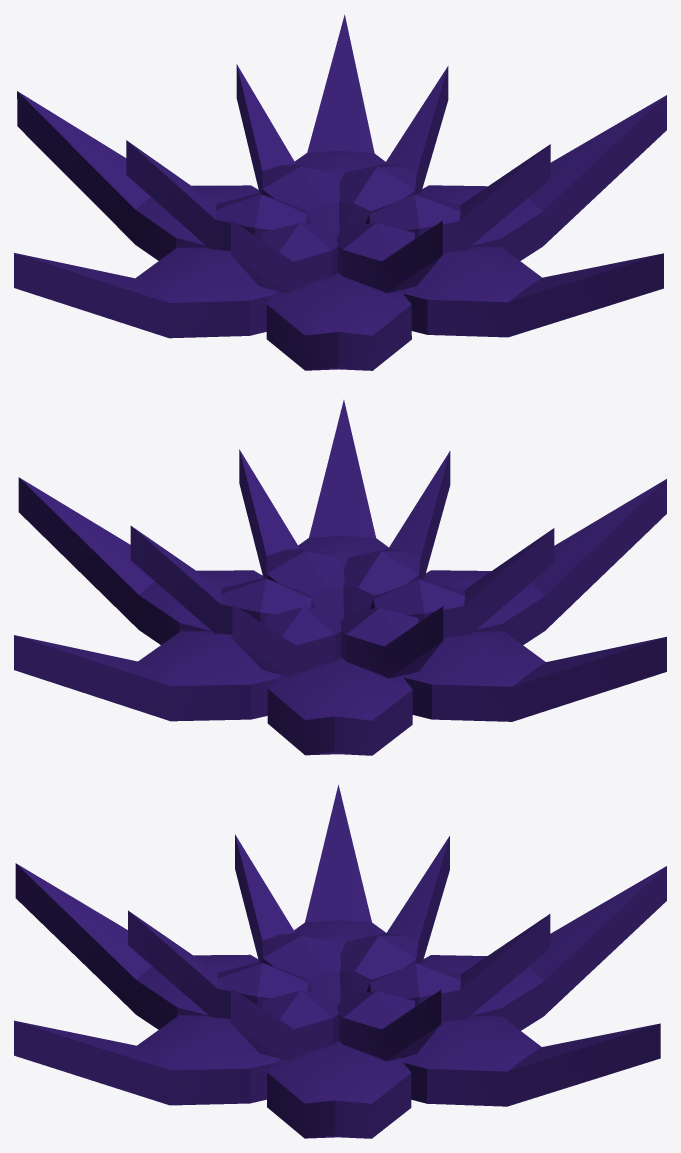
The model's file is cursedBush_1.fbx.
3 views of the same model, one above another, from view 1: azimuth 30°, elevation 25°; view 2: azimuth 150°, elevation 25°; view 3: azimuth 270°, elevation 25° (orthographic).
Visible parts, largest first — view 1: Plane.008; view 2: Plane.008; view 3: Plane.008.
Part boxes in pixels (left/top/right/bottom): Plane.008: left=14, top=14, right=666, bottom=370; Plane.008: left=14, top=400, right=666, bottom=755; Plane.008: left=14, top=784, right=666, bottom=1138.
Bounding box in the file's own units: 163 × 40.01 × 142.
